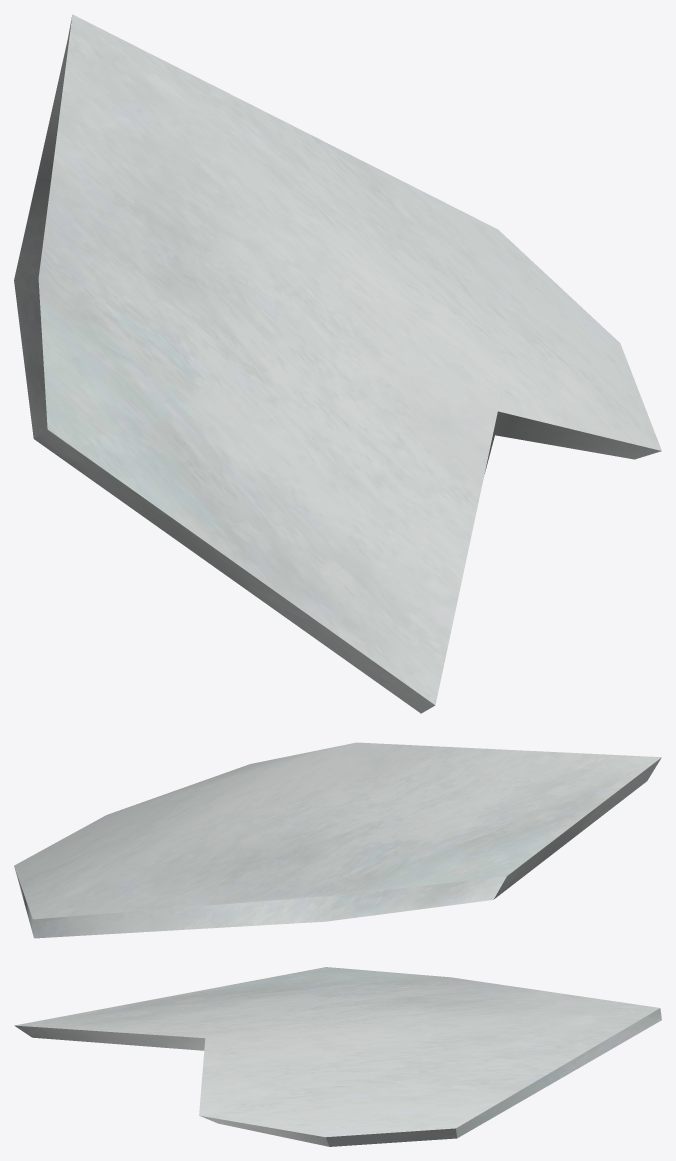
File: damaged_01.fbx
The picture shows the model from 3 angles, top to bottom: view 1: azimuth 30°, elevation 25°; view 2: azimuth 150°, elevation 25°; view 3: azimuth 270°, elevation 25°; orthographic projection. The views are drawn at different scales.
Visible parts, largest first — view 1: Cylinder023; view 2: Cylinder023; view 3: Cylinder023.
Part boxes in pixels (x1,y1,x2,y2): Cylinder023: (14,14,661,713); Cylinder023: (14,742,661,938); Cylinder023: (14,967,661,1146).
Size of the model in its own units: 12.99 by 4.02 by 24.64.
